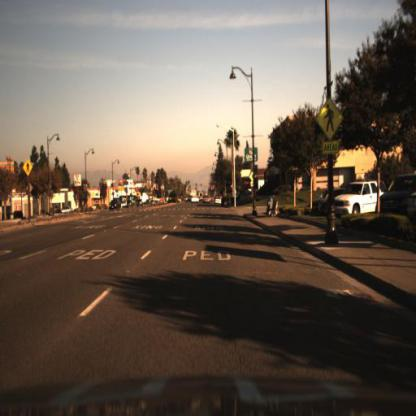car: (333, 175, 387, 220), (107, 197, 126, 215)
